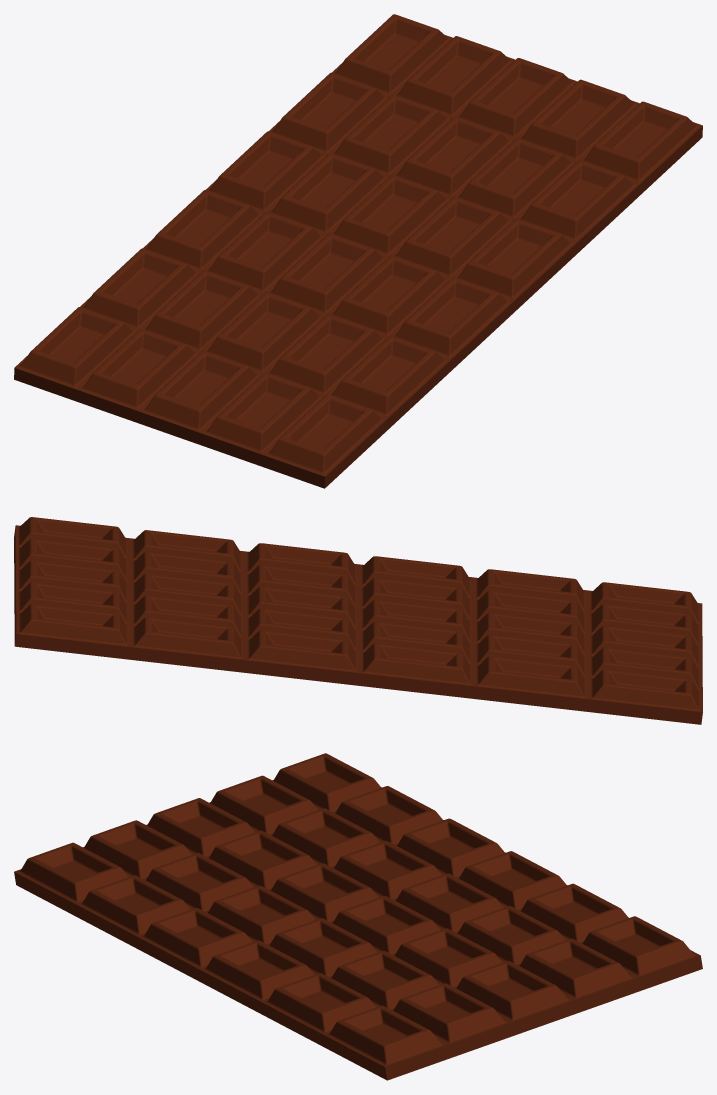
The model's file is choco.glb.
The picture shows the model from 3 angles, top to bottom: view 1: azimuth 30°, elevation 25°; view 2: azimuth 150°, elevation 25°; view 3: azimuth 270°, elevation 25°; orthographic projection. The views are drawn at different scales.
Size of the model in its own units: 22.96 by 4.24 by 18.78.
